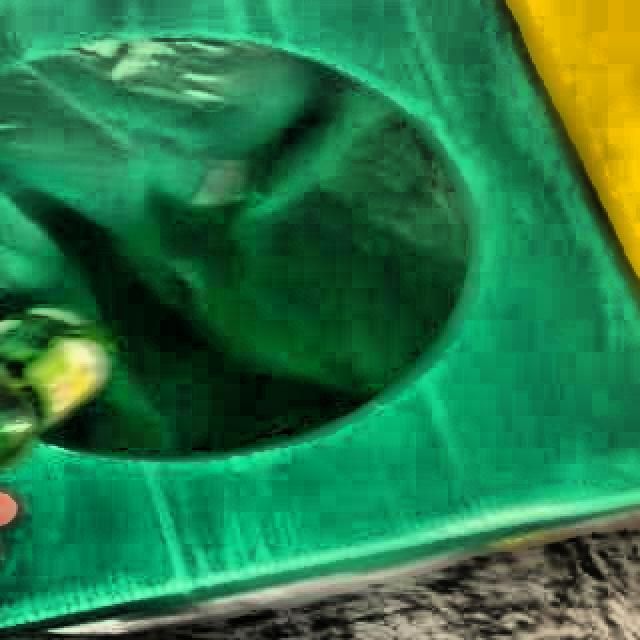glass: (0, 310, 109, 468)
